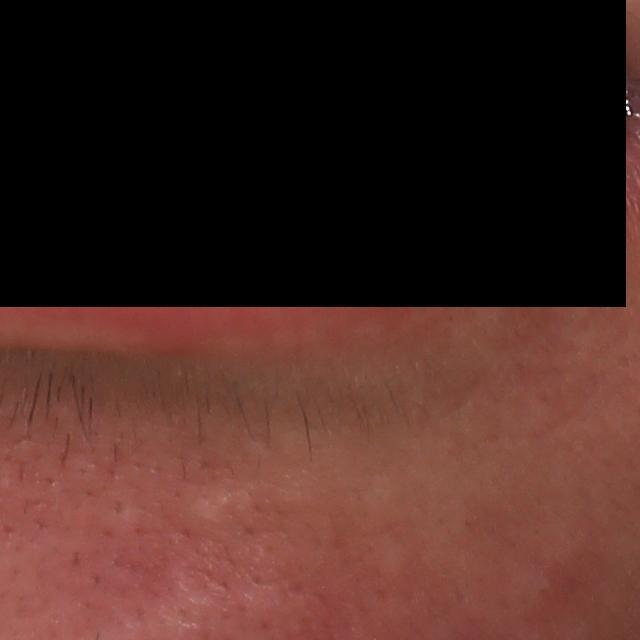hypertrophic_scar: (150, 473, 259, 533)
